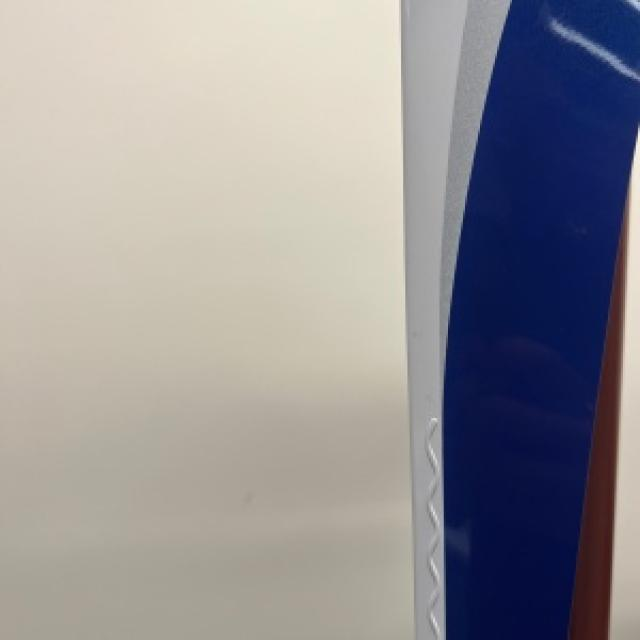healthy: (401, 0, 638, 638)
